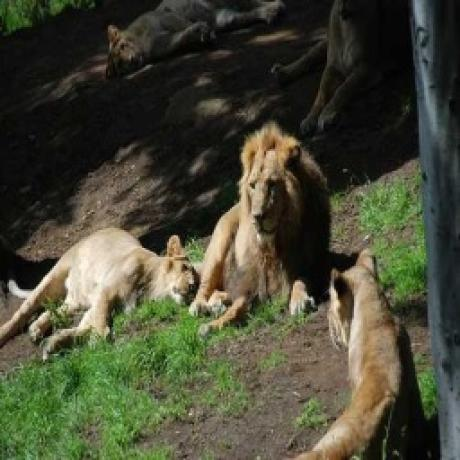Lion: (0, 225, 201, 363), (196, 118, 332, 320), (298, 246, 424, 460)
